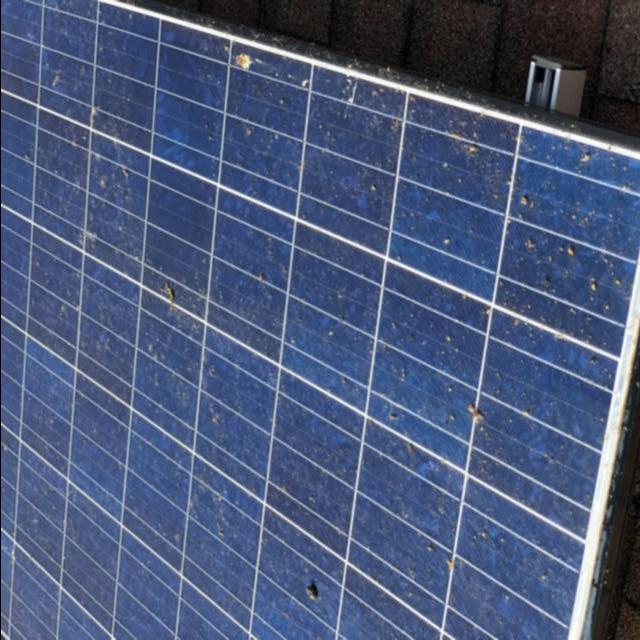soiled: (2, 12, 640, 636)
